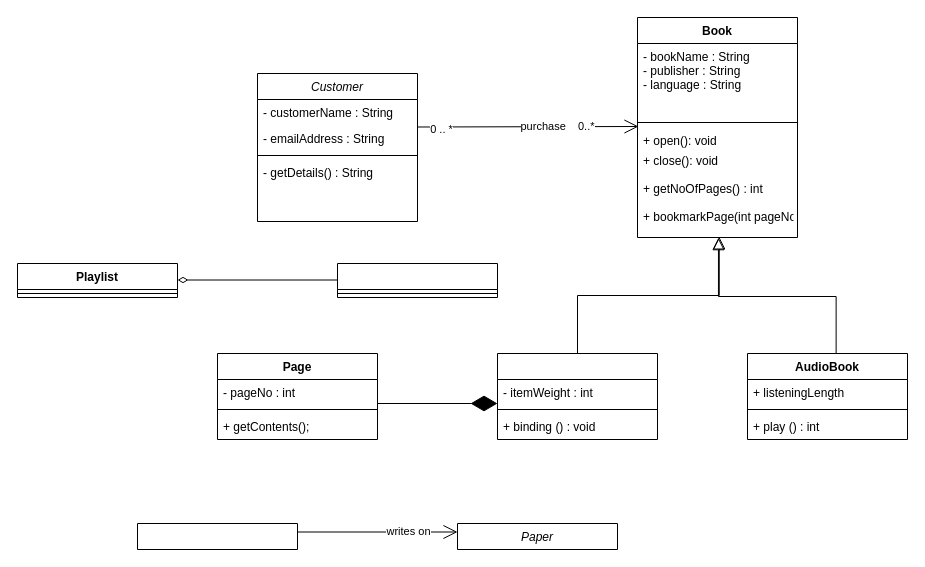
Image size: 925x567. Some labels were removed from this diagram. The box of each missing label's shape, as (x1, y1, x2, y2) in pixels:
AudioTrack: (336, 262, 498, 298)
HardCopy: (496, 352, 658, 440)
Pen: (136, 522, 298, 550)
